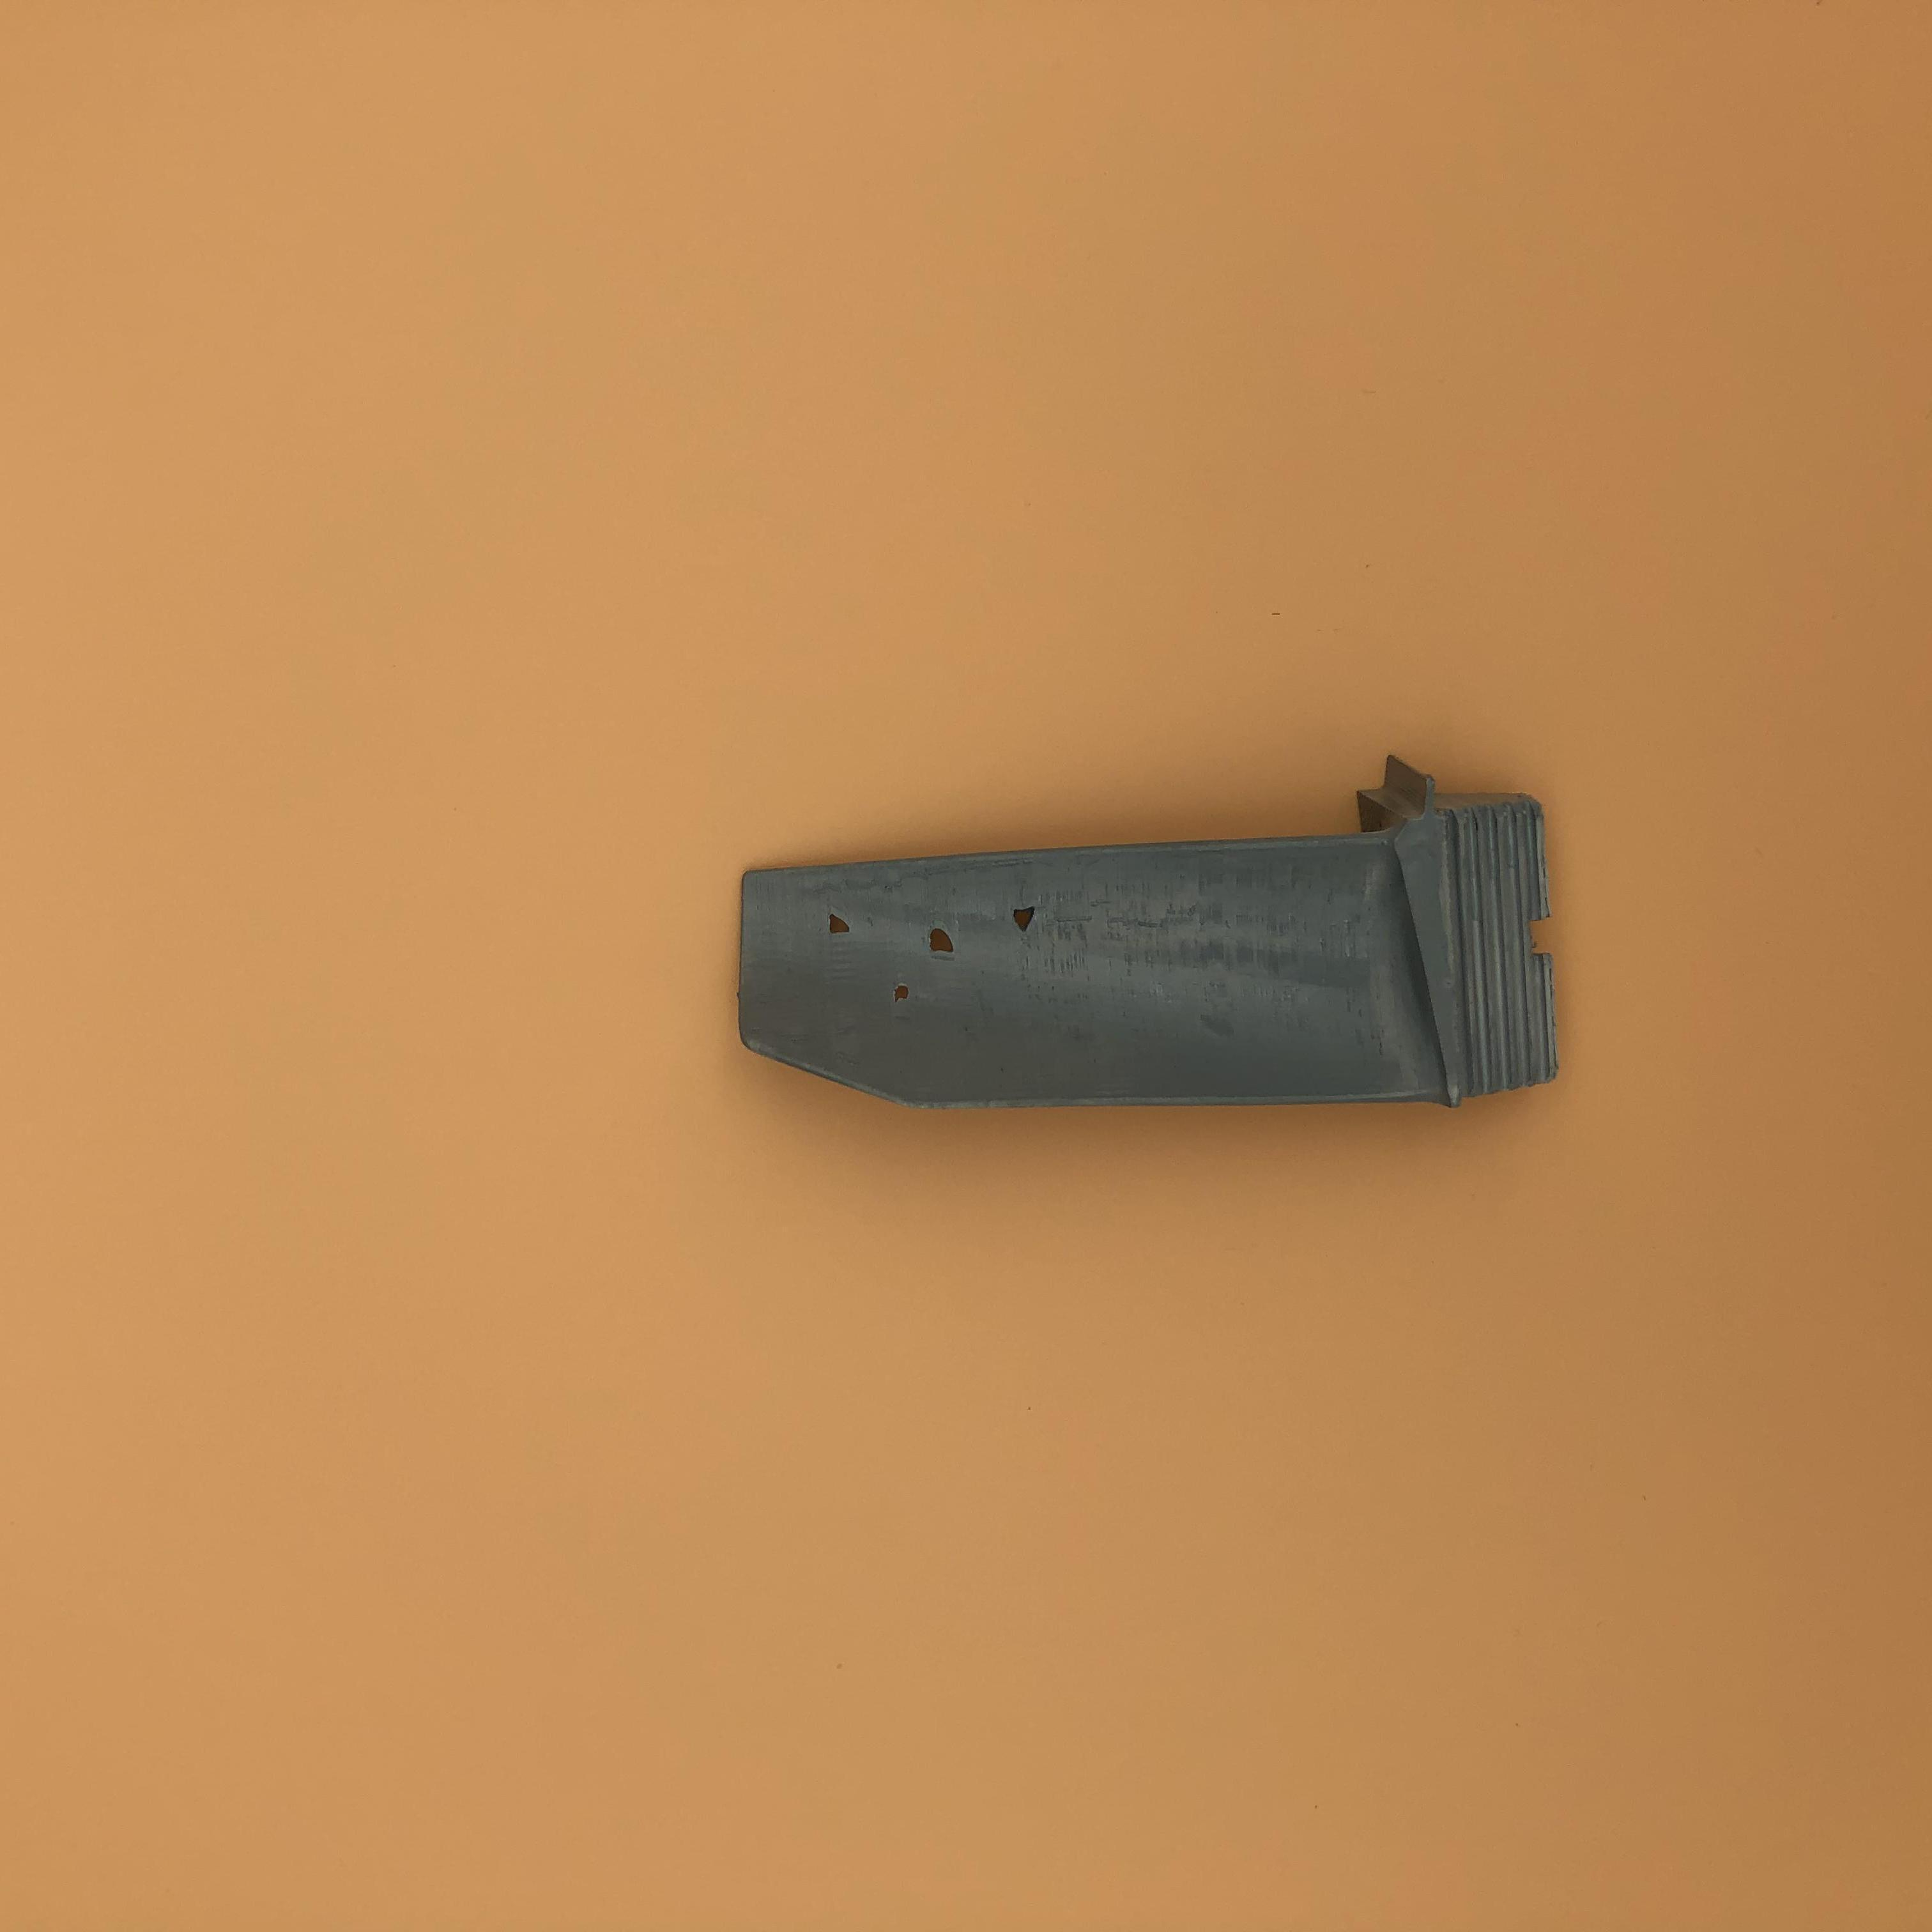breakdown: (821, 902, 1070, 1003)
